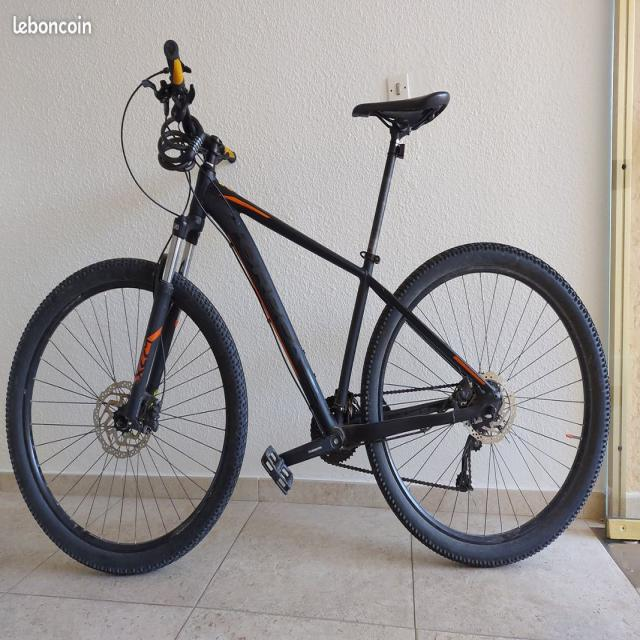Bike: (6, 40, 609, 574)
